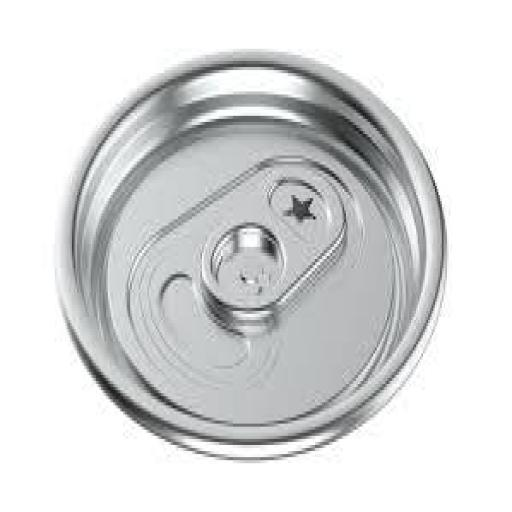pop tab: (198, 156, 348, 338)
